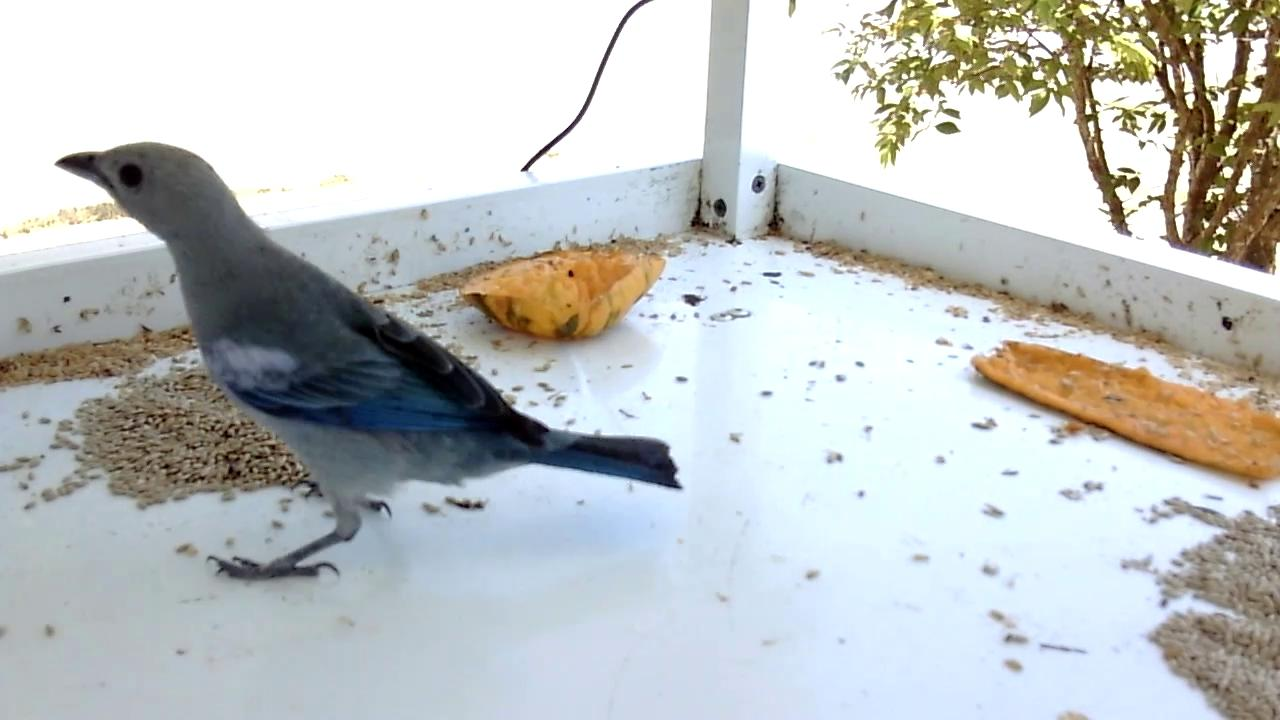sanhaco_da_amazonia: (55, 140, 687, 583)
